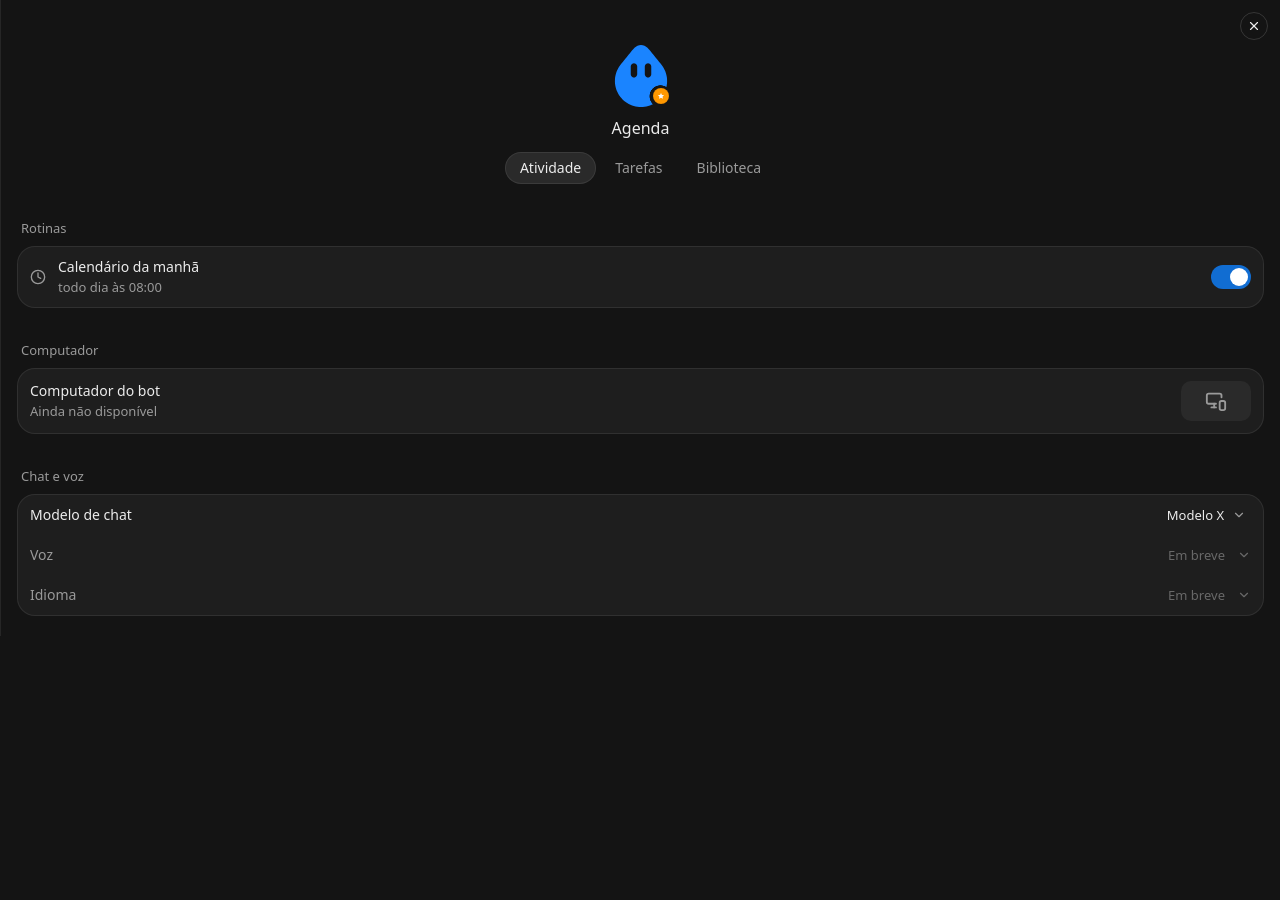
the detail of a routine, in the panel › replaces the list: header with the way back and the name, the instruction in Markdown, nothing else
This screenshot has width=1280, height=900.
Click the button "Calendário da manhã todo dia às 08:00": [129, 266] box left=18, top=247, right=1199, bottom=307
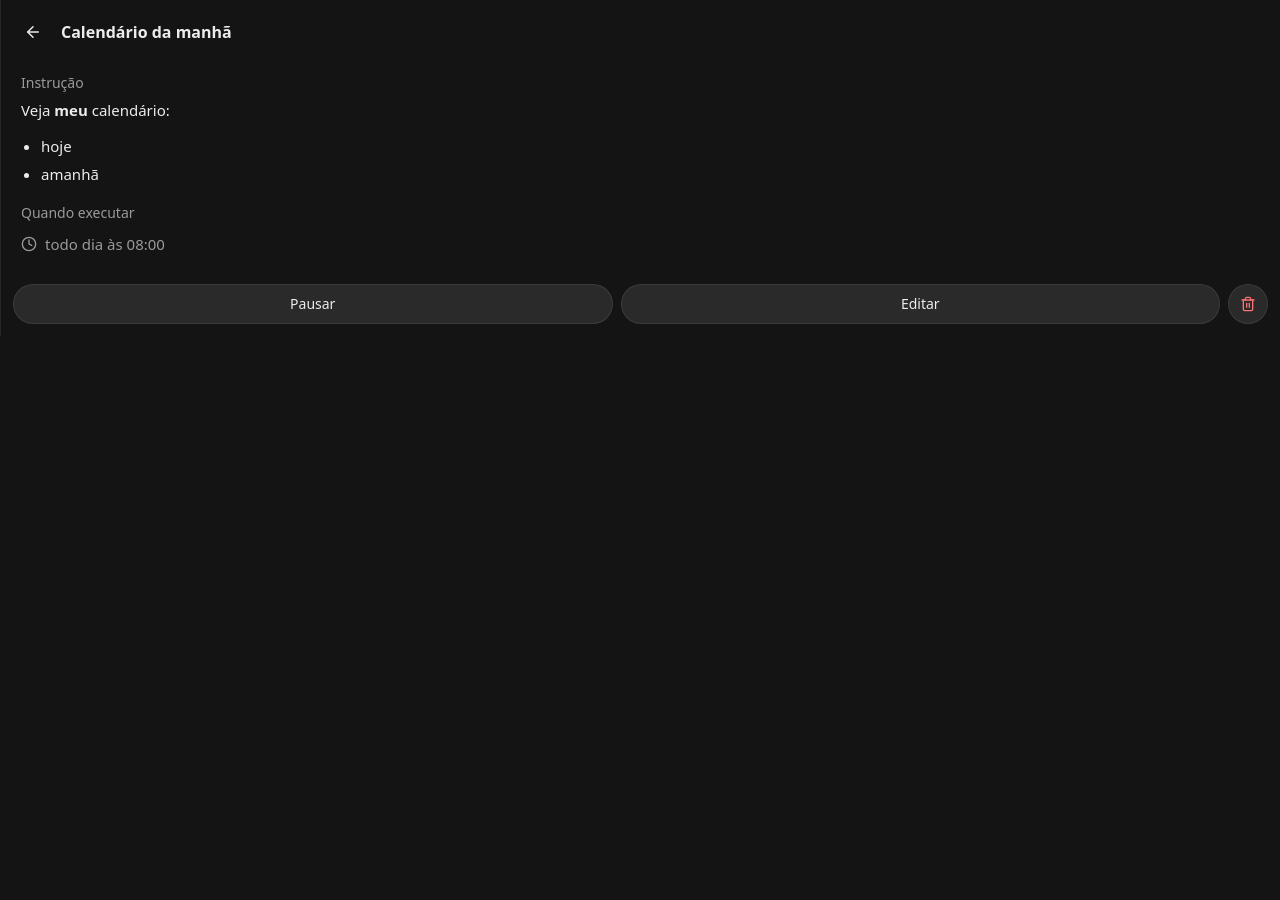
Now the element with test id "section-routines" is gone
Now the heading "Instrução" is shown, box left=21, top=73, right=84, bottom=92
Now the heading "Quando executar" is shown, box left=21, top=203, right=134, bottom=222
Click the button named "Voltar às rotinas": [33, 32] box left=13, top=12, right=53, bottom=52
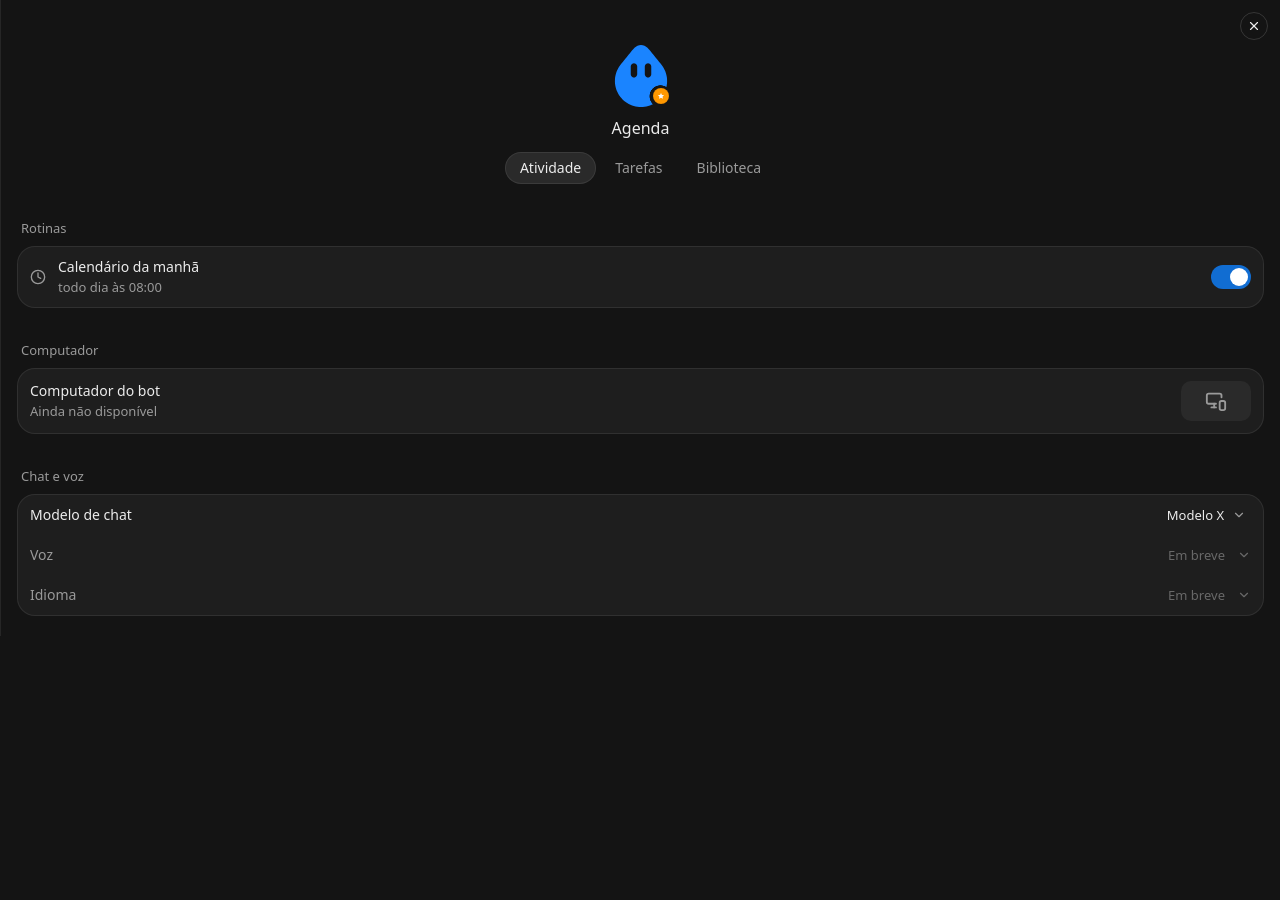
Now the element with test id "section-routines" is shown, box left=17, top=218, right=1264, bottom=308
Now the element with test id "routine-detail" is gone
